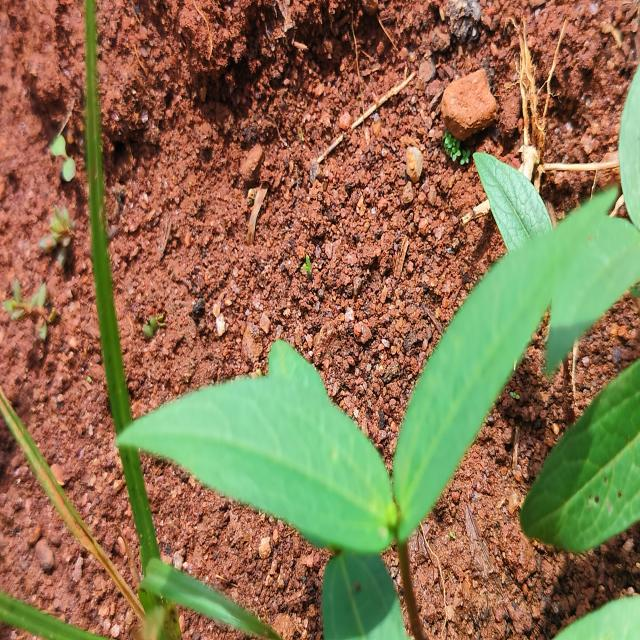Black gram_healthy: (390, 182, 620, 544), (114, 336, 402, 544)
